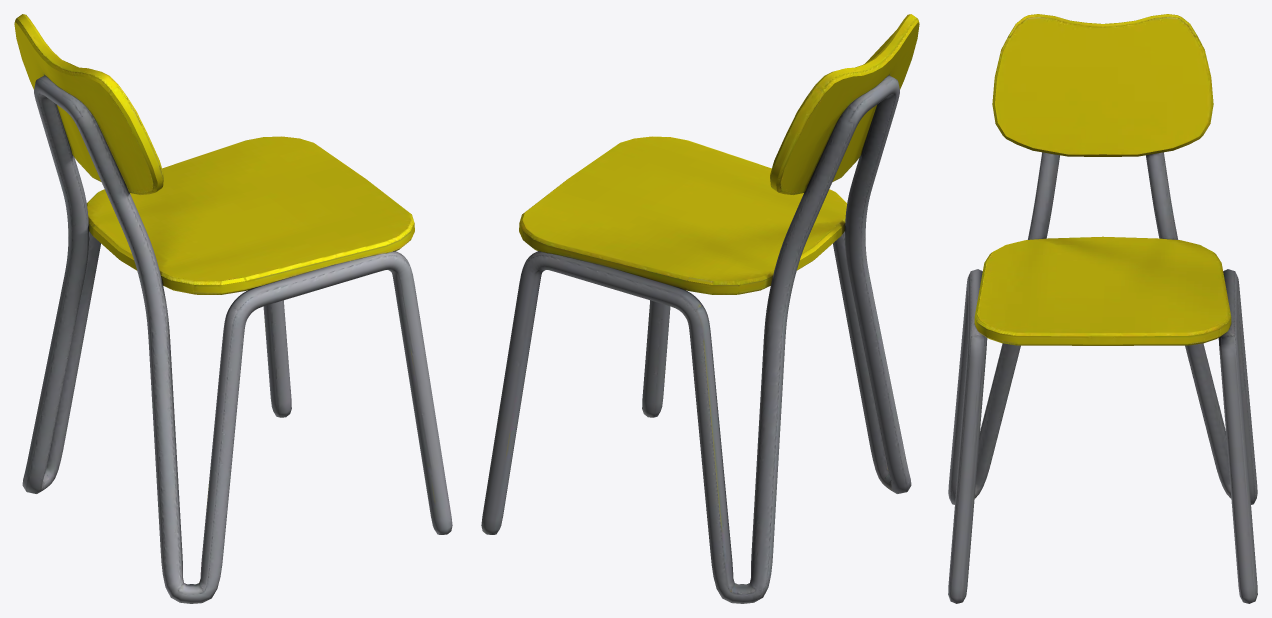
File: chair.glb
3 renders of one model, left to right at view 1: azimuth 30°, elevation 25°; view 2: azimuth 150°, elevation 25°; view 3: azimuth 270°, elevation 25°, orthographic. The views are drawn at different scales.
Parts seen in each view (by area): view 1: chair; view 2: chair; view 3: chair.
Boxes of the visible parts, bbox=[...] form: chair: bbox=[14, 14, 452, 603]; chair: bbox=[481, 14, 919, 603]; chair: bbox=[948, 14, 1257, 603].
Size of the model in its own units: 0.6616 by 1.02 by 0.6125.
Materials: 1 (1 with a texture image).
